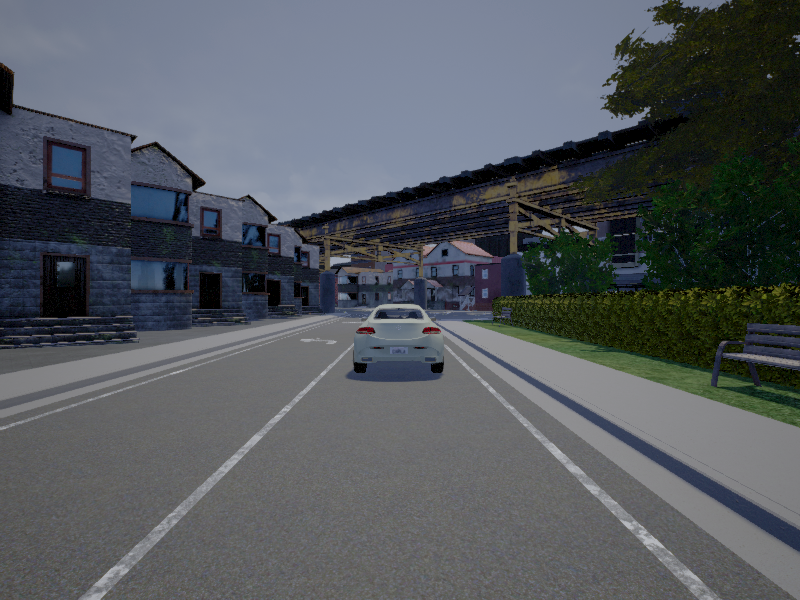Benign: (357, 302, 445, 374)
